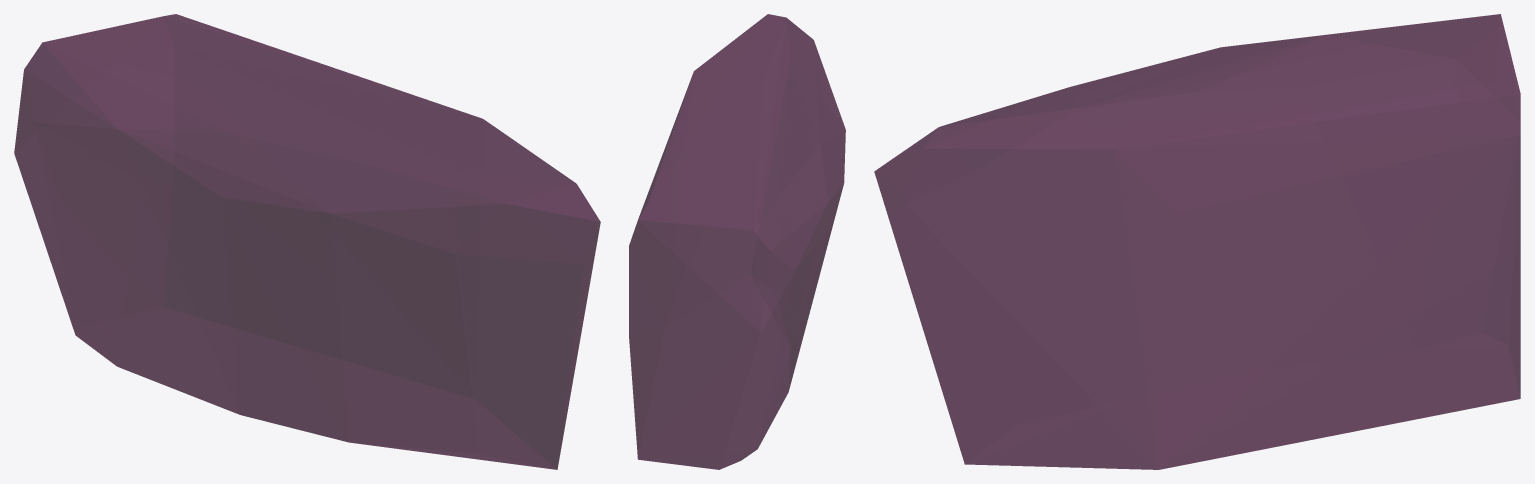
3 renders of one model, left to right at view 1: azimuth 30°, elevation 25°; view 2: azimuth 150°, elevation 25°; view 3: azimuth 270°, elevation 25°, orthographic. The views are drawn at different scales.
Visible parts, largest first — view 1: Shape_IndexedFaceSet.009_Shape_IndexedFaceSet.12280; view 2: Shape_IndexedFaceSet.009_Shape_IndexedFaceSet.12280; view 3: Shape_IndexedFaceSet.009_Shape_IndexedFaceSet.12280.
Boxes of the visible parts, x1,y1,x2,y2 form: Shape_IndexedFaceSet.009_Shape_IndexedFaceSet.12280: (14, 14, 600, 469); Shape_IndexedFaceSet.009_Shape_IndexedFaceSet.12280: (629, 14, 845, 469); Shape_IndexedFaceSet.009_Shape_IndexedFaceSet.12280: (874, 14, 1520, 469).
Size of the model in its own units: 0.245 by 0.2374 by 0.4376.
